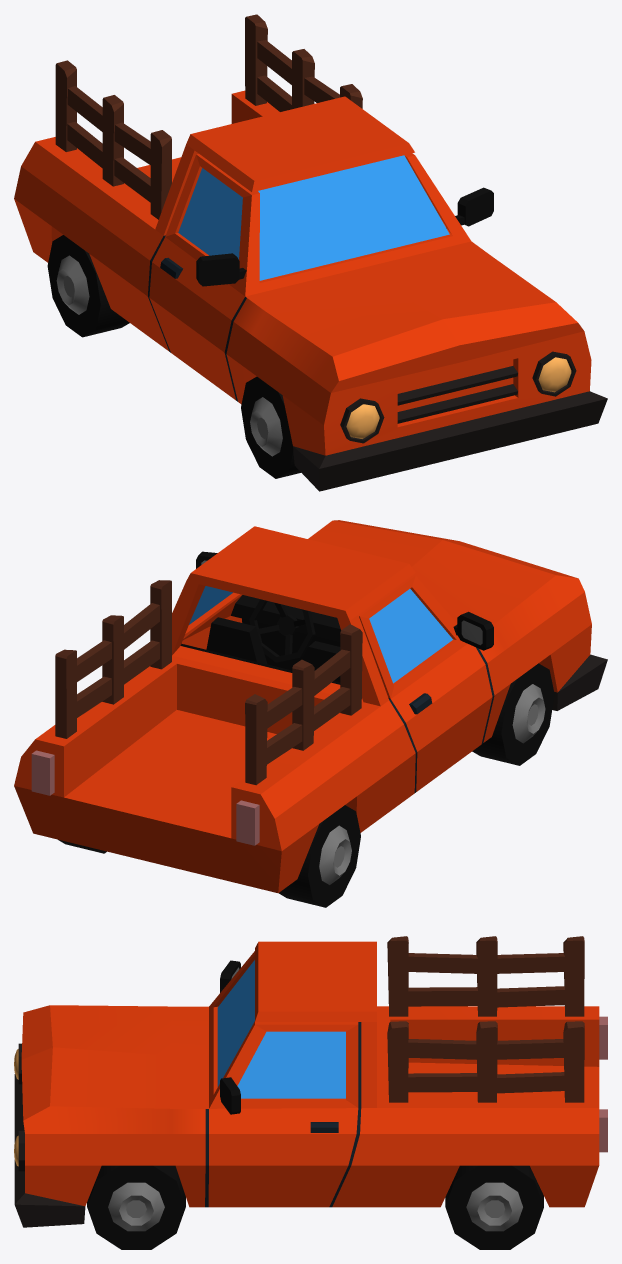
Rendered from Pickup_4.fbx.
3 renders of one model, top to bottom at view 1: azimuth 30°, elevation 25°; view 2: azimuth 150°, elevation 25°; view 3: azimuth 270°, elevation 25°, orthographic. The views are drawn at different scales.
Visible parts, largest first — view 1: Pickup_4; view 2: Pickup_4; view 3: Pickup_4.
Part boxes in pixels (x1,y1,x2,y2): Pickup_4: [14, 14, 607, 491]; Pickup_4: [14, 520, 607, 907]; Pickup_4: [14, 936, 607, 1249].
Bounding box in the file's own units: 72.45 × 54.2 × 136.
